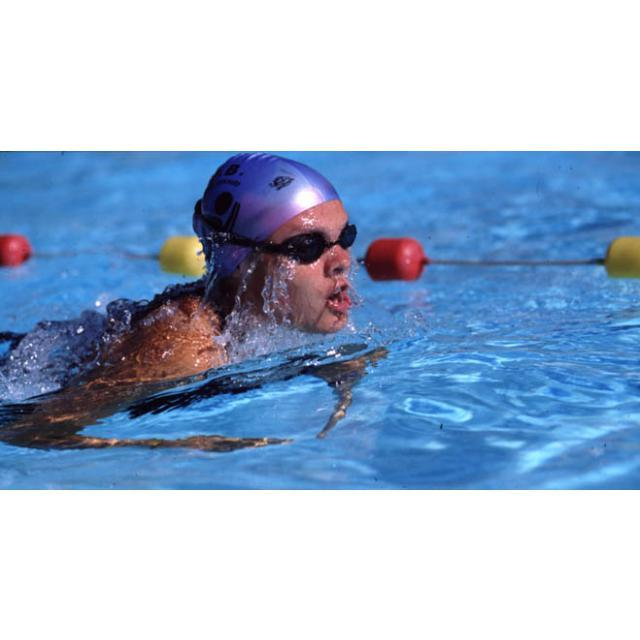human: (1, 151, 406, 459)
